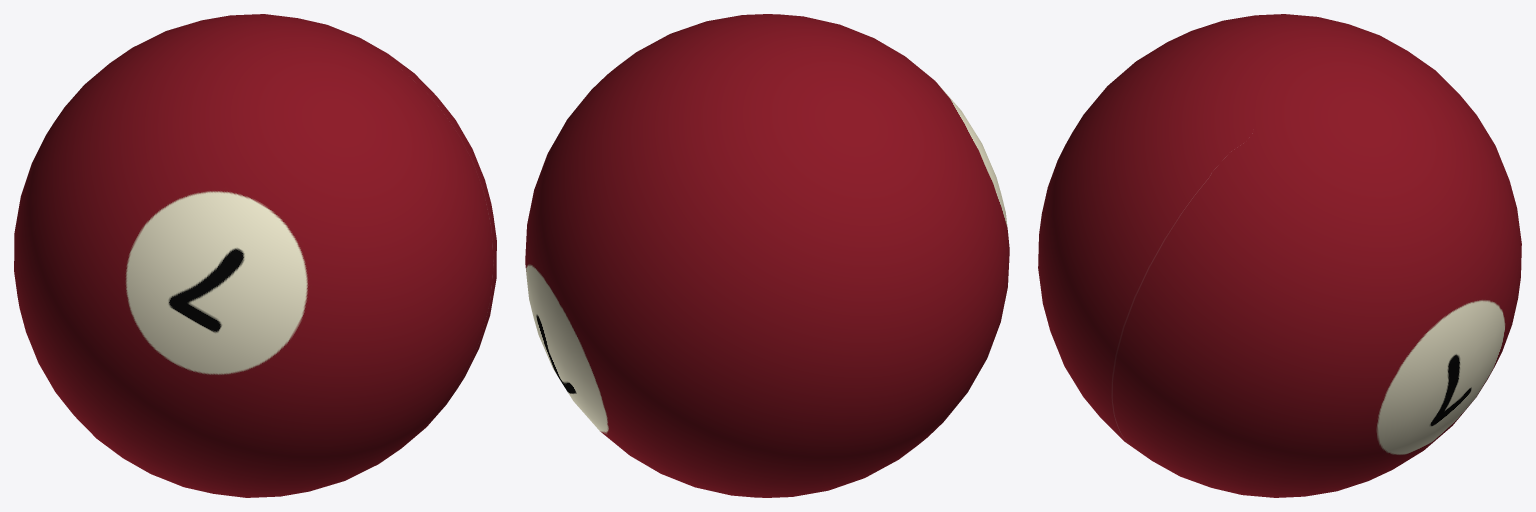
File: bola10.obj
The picture shows the model from 3 angles, left to right: view 1: azimuth 30°, elevation 25°; view 2: azimuth 150°, elevation 25°; view 3: azimuth 270°, elevation 25°; orthographic projection.
Parts seen in each view (by area): view 1: 7_Ball; view 2: 7_Ball; view 3: 7_Ball.
Part boxes in pixels (box(x1,y1,x2,y2)): 7_Ball: box(14, 14, 496, 497); 7_Ball: box(525, 14, 1009, 497); 7_Ball: box(1038, 14, 1521, 497).
Size of the model in its own units: 0.0508 by 0.0509 by 0.0509.
Materials: 1 (1 with a texture image).
